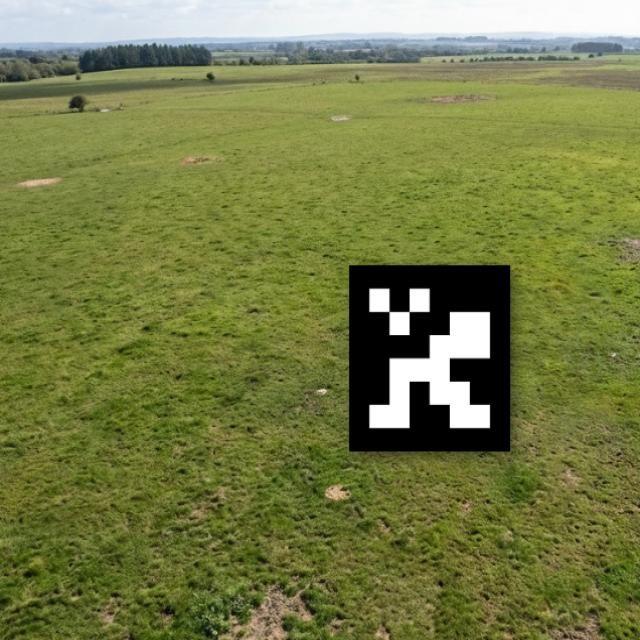marker: (340, 254, 522, 461)
